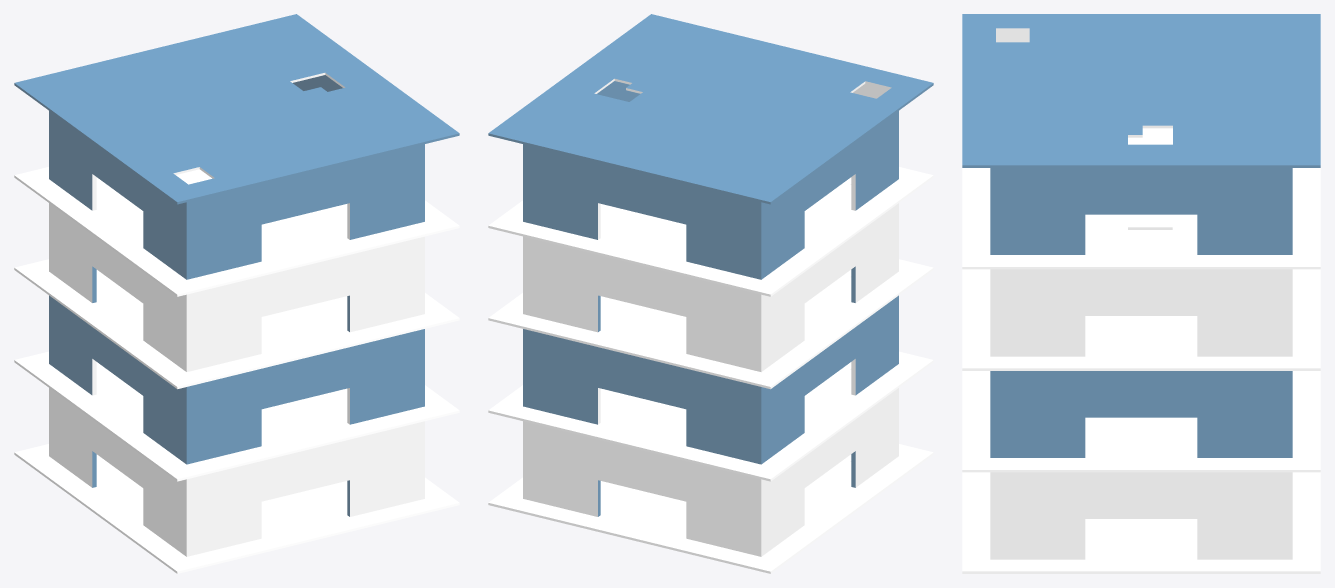
The model's file is StudzDragonBuilding_Final3.gltf.
3 renders of one model, left to right at view 1: azimuth 30°, elevation 25°; view 2: azimuth 150°, elevation 25°; view 3: azimuth 270°, elevation 25°, orthographic. The views are drawn at different scales.
Parts seen in each view (by area): view 1: Building; view 2: Building; view 3: Building.
Part boxes in pixels (box(x1,y1,x2,y2)): Building: box(14, 14, 459, 573); Building: box(488, 14, 933, 573); Building: box(962, 14, 1320, 573).
Size of what is drawn, in the model's own units: 32 by 40.25 by 32.
